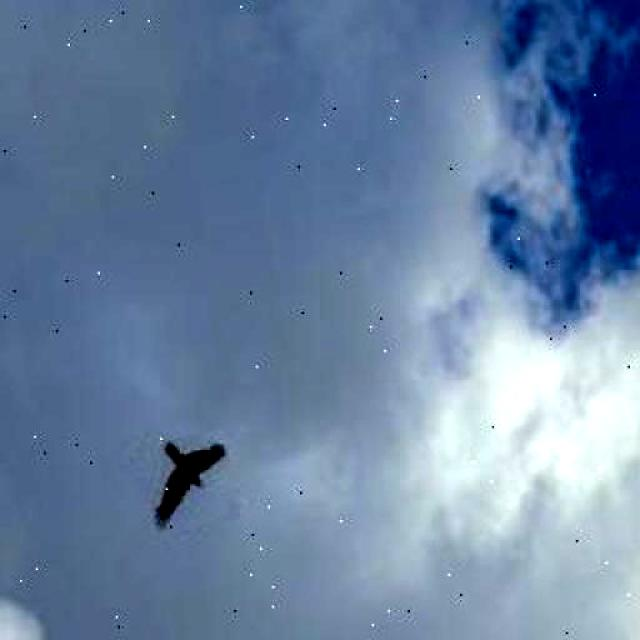airplane: (139, 429, 239, 532)
